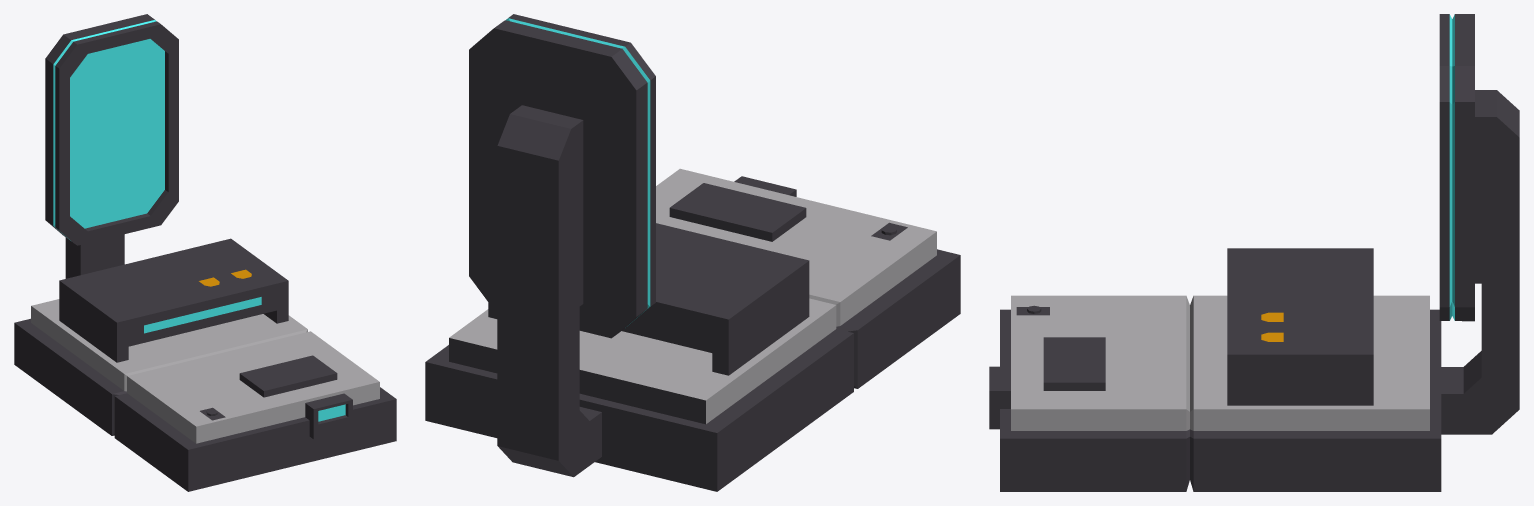
File: SM_Props_Laboratory_07.fbx
The picture shows the model from 3 angles, left to right: view 1: azimuth 30°, elevation 25°; view 2: azimuth 150°, elevation 25°; view 3: azimuth 270°, elevation 25°; orthographic projection. The views are drawn at different scales.
Parts seen in each view (by area): view 1: SM_Props_Laboratory_07; view 2: SM_Props_Laboratory_07; view 3: SM_Props_Laboratory_07.
Part boxes in pixels (x1,y1,x2,y2): SM_Props_Laboratory_07: (14,14,396,491); SM_Props_Laboratory_07: (425,14,960,491); SM_Props_Laboratory_07: (989,14,1519,491).
Size of the model in its own units: 0.2388 by 0.3343 by 0.4145.
